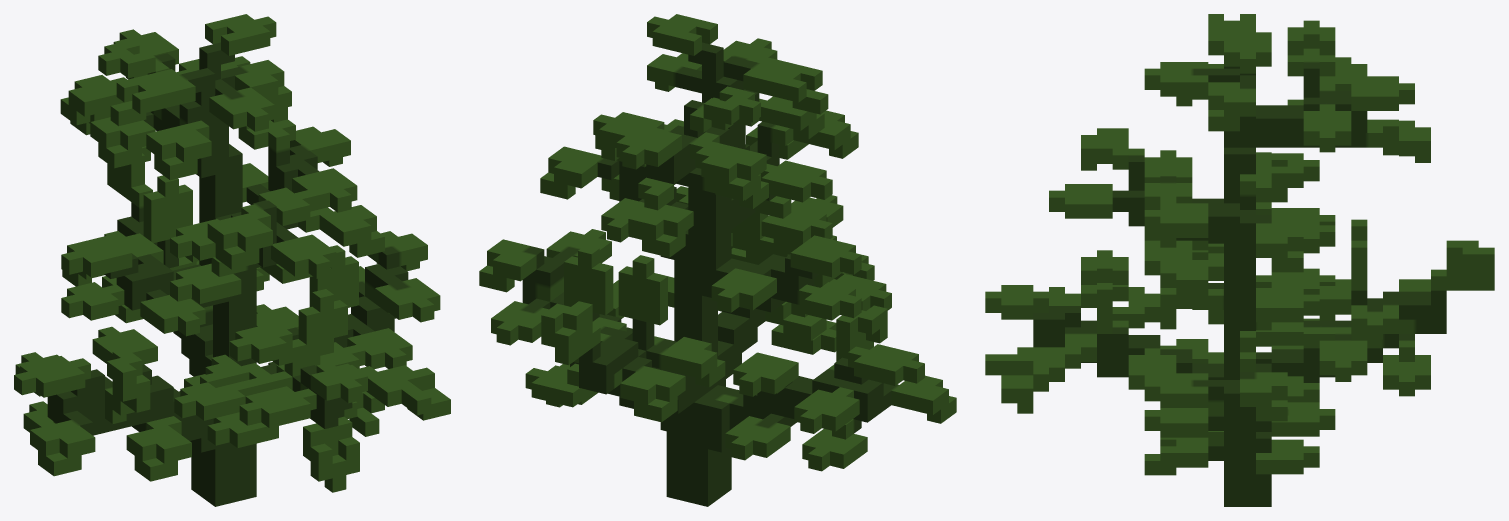
File: planta Papa.fbx
The picture shows the model from 3 angles, left to right: view 1: azimuth 30°, elevation 25°; view 2: azimuth 150°, elevation 25°; view 3: azimuth 270°, elevation 25°; orthographic projection.
Parts seen in each view (by area): view 1: Box; view 2: Box; view 3: Box.
Boxes of the visible parts, left/top/right/bottom form: Box: left=14, top=14, right=450, bottom=506; Box: left=479, top=14, right=956, bottom=506; Box: left=985, top=14, right=1494, bottom=506.
Size of the model in its own units: 960 by 1024 by 1024.
Materials: 1 (1 with a texture image).
